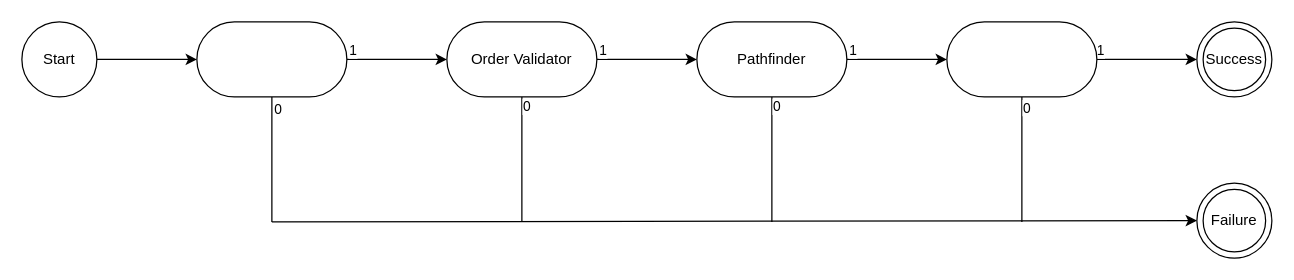
Image size: 1294x280. Some labels were removed from this diagram. The shapes that lost their labels are listed below. From the top down, each one's centre as x and y in pixels, then its label:
At (x=271, y=59): "Order Retrieval".
At (x=1021, y=59): "Serializer".
